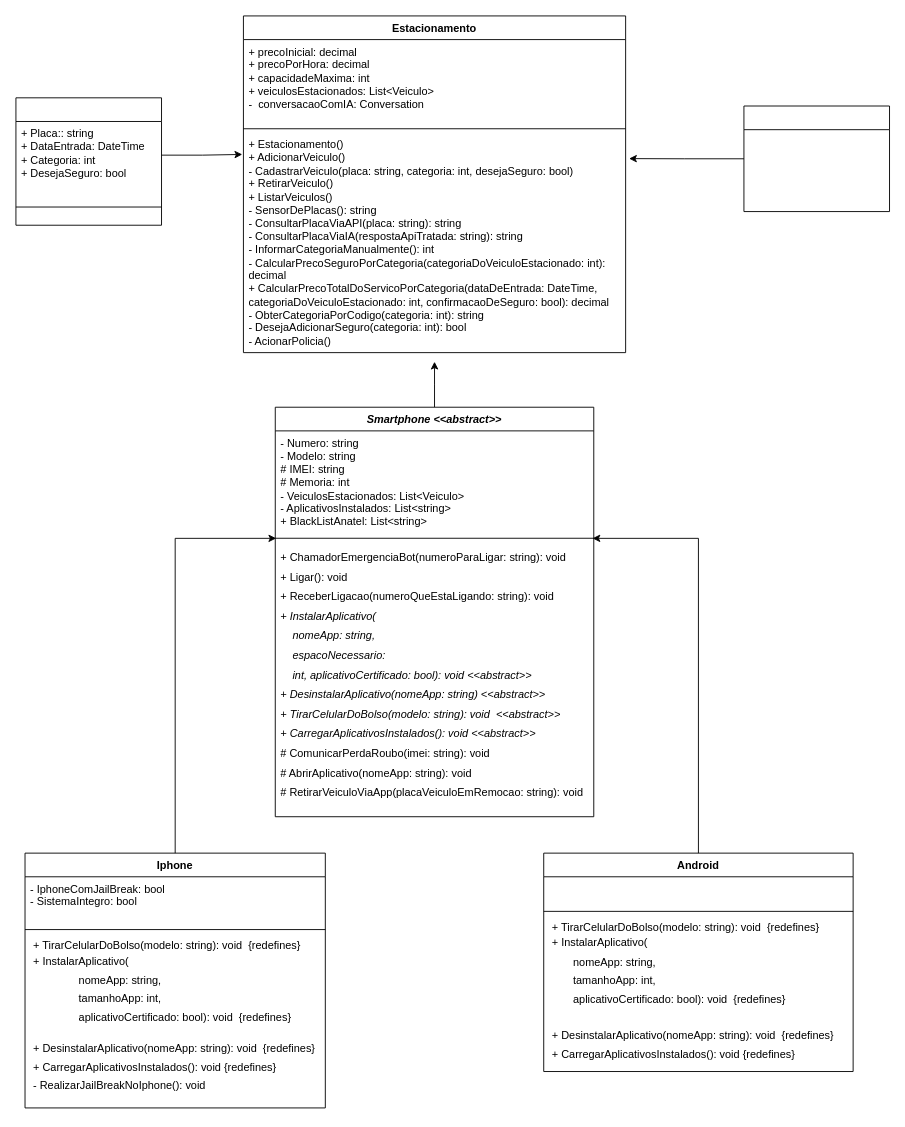
Image size: 905x1127. Some labels were removed from this diagram. The box of each missing label's shape, as (x1, y1, x2, y2) in pixels:
Componante Main: (743, 105, 890, 212)
Veiculo: (15, 97, 162, 225)
